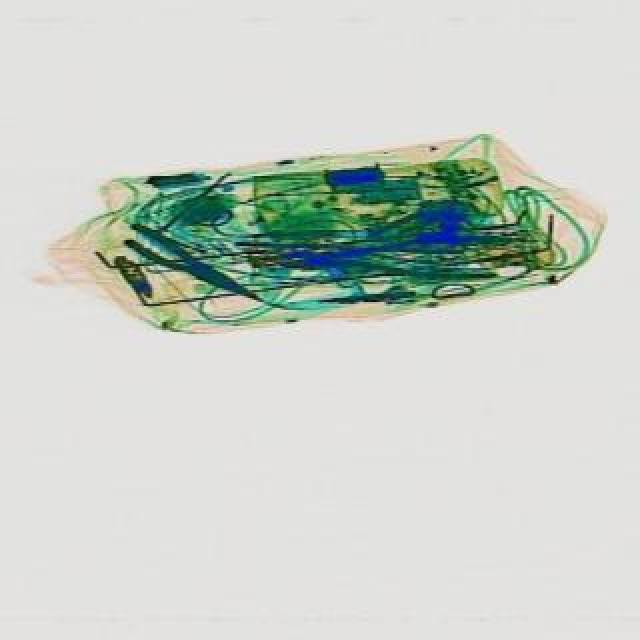wrench: (126, 222, 278, 318), (282, 232, 514, 284)
